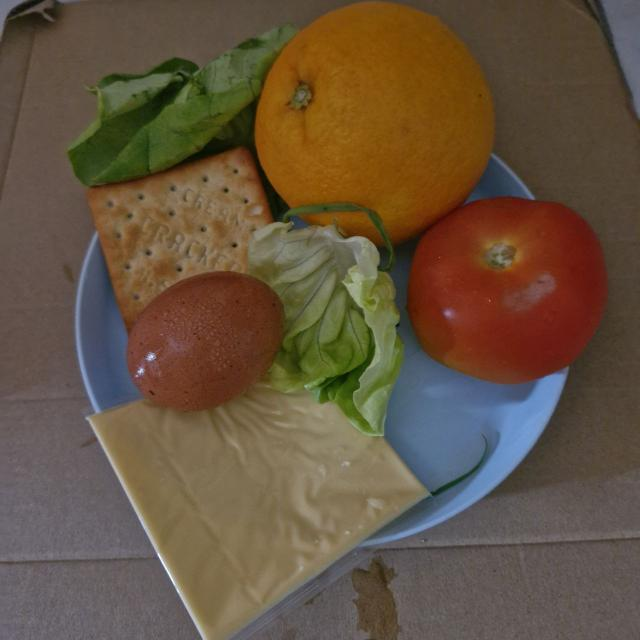food_waste: (95, 382, 427, 618), (260, 2, 508, 246), (245, 192, 422, 416), (405, 190, 611, 382), (67, 22, 280, 178), (115, 254, 288, 406), (67, 156, 260, 282)
plastic: (82, 388, 444, 634)
